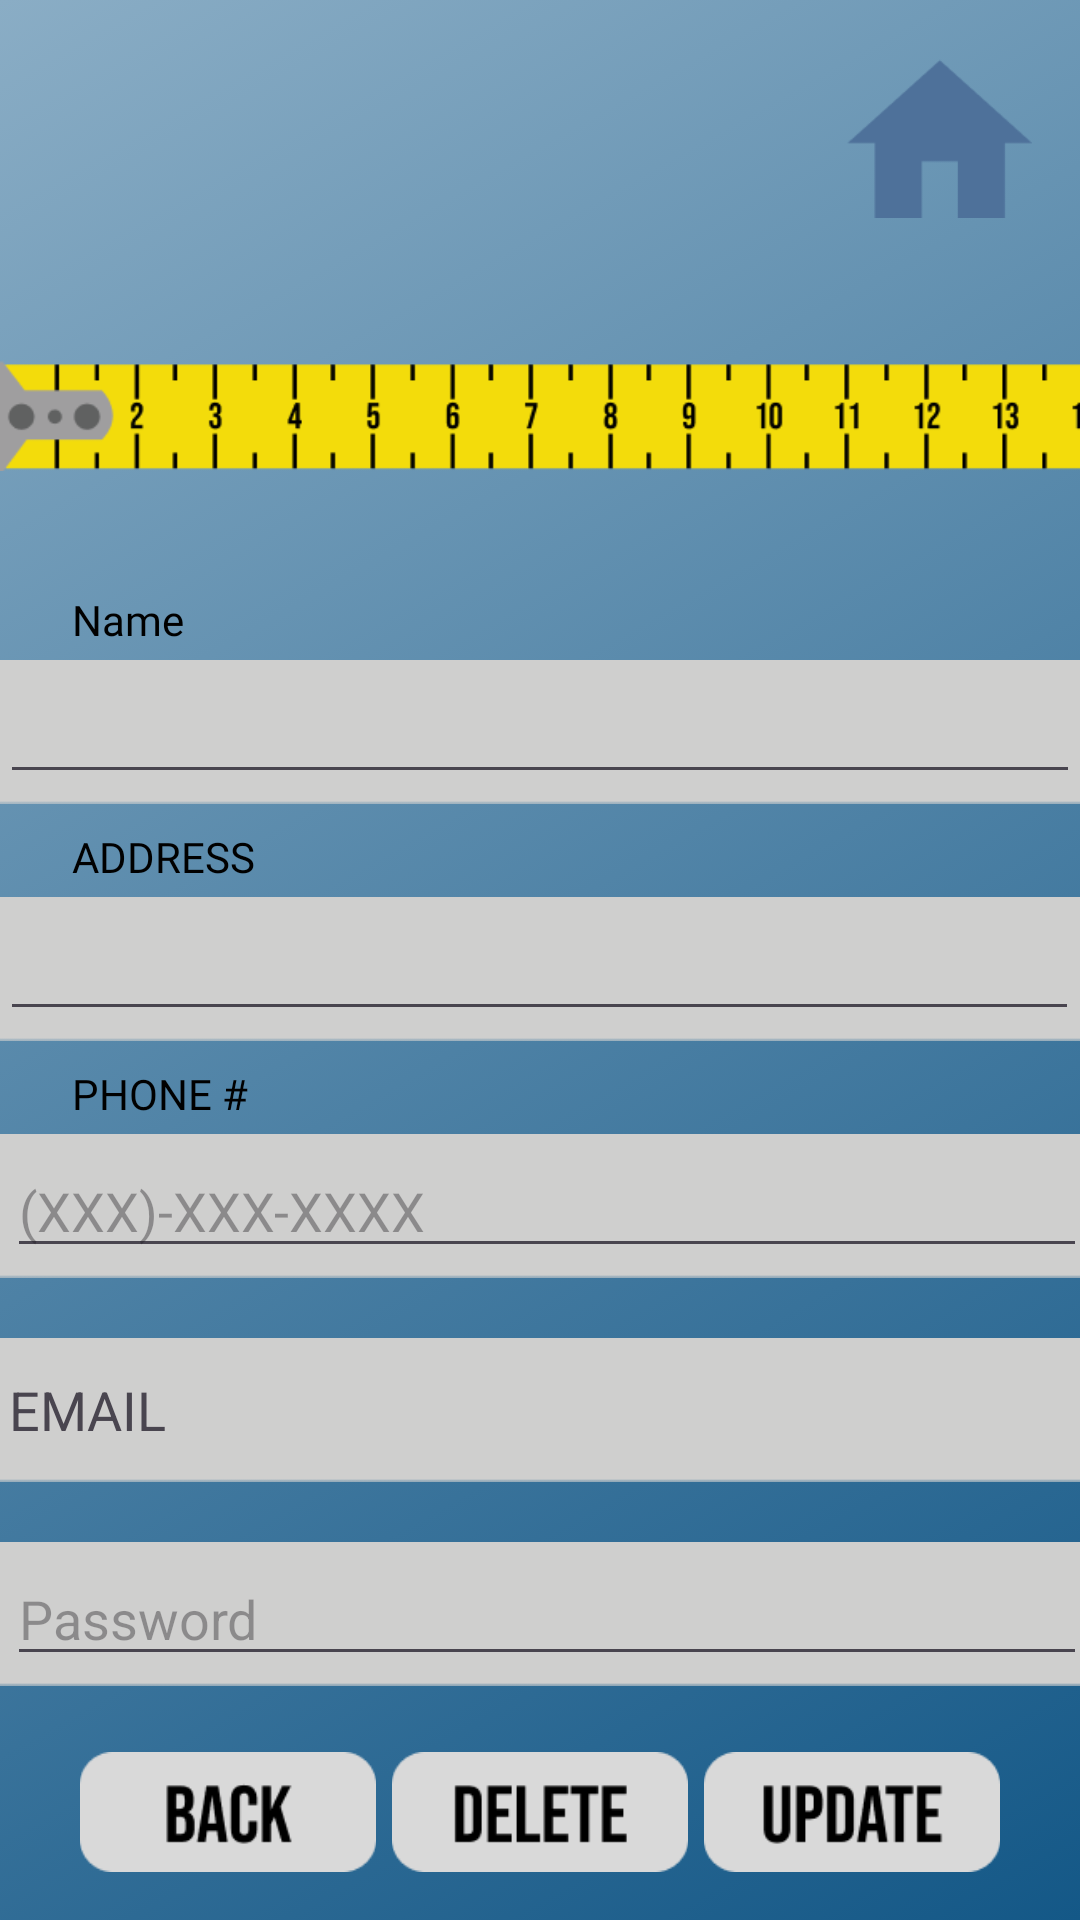

Named icons in this screenshot (1080 × 1920) and their bounding boxes, [x1=x1, y1=y1, x2=x2, y2=y2]:
home: [x1=849, y1=61, x2=1030, y2=218]
